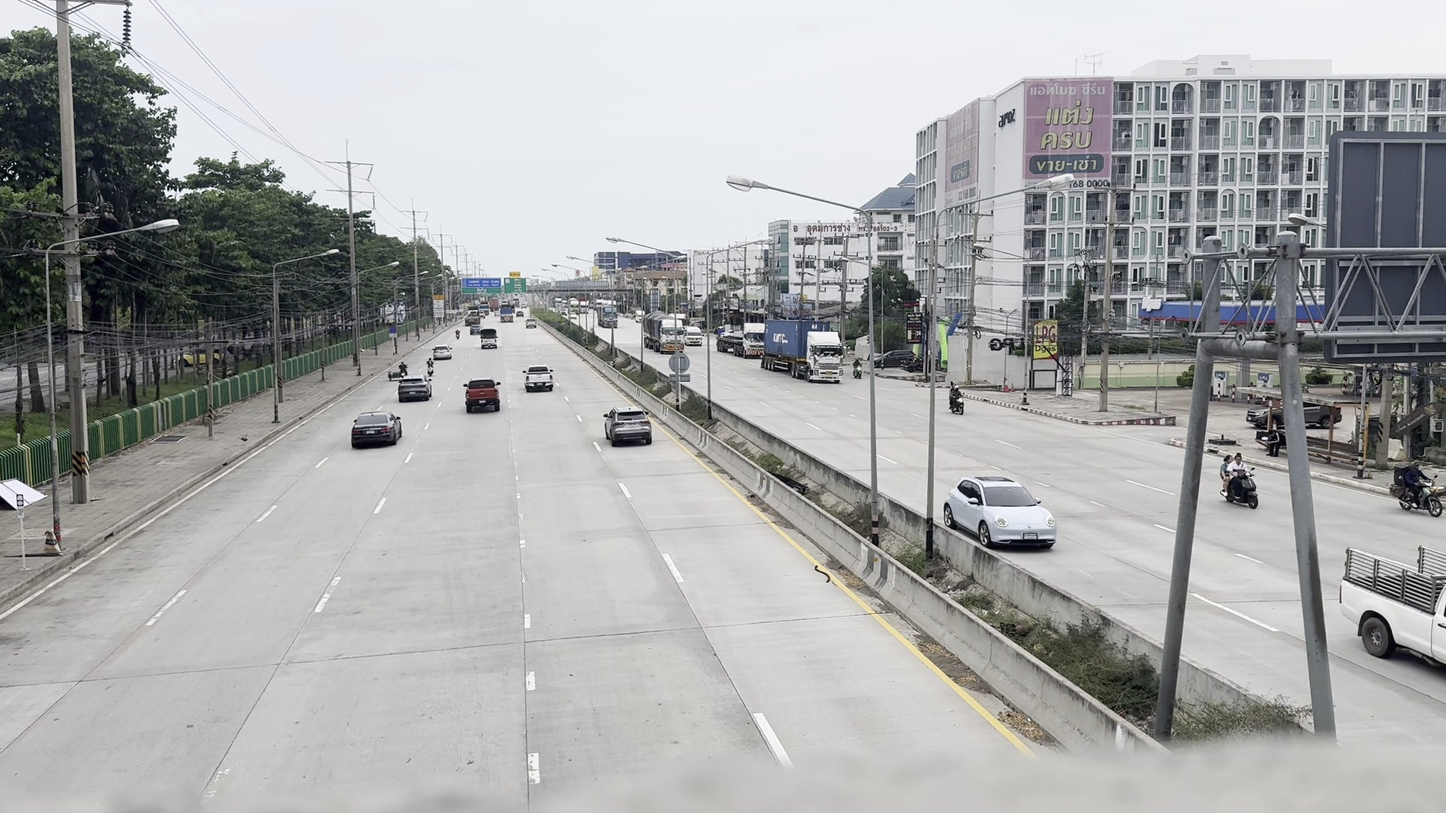bus: (762, 316, 844, 382)
car: (943, 476, 1058, 553), (1392, 465, 1435, 513), (605, 408, 653, 448), (351, 411, 400, 450), (464, 378, 500, 414), (395, 376, 433, 403), (717, 324, 748, 356), (877, 348, 916, 371), (522, 365, 554, 392), (427, 347, 454, 367)
motorbike: (1392, 461, 1442, 514), (1221, 460, 1260, 507)
truck: (1340, 542, 1445, 668), (762, 317, 843, 382)
